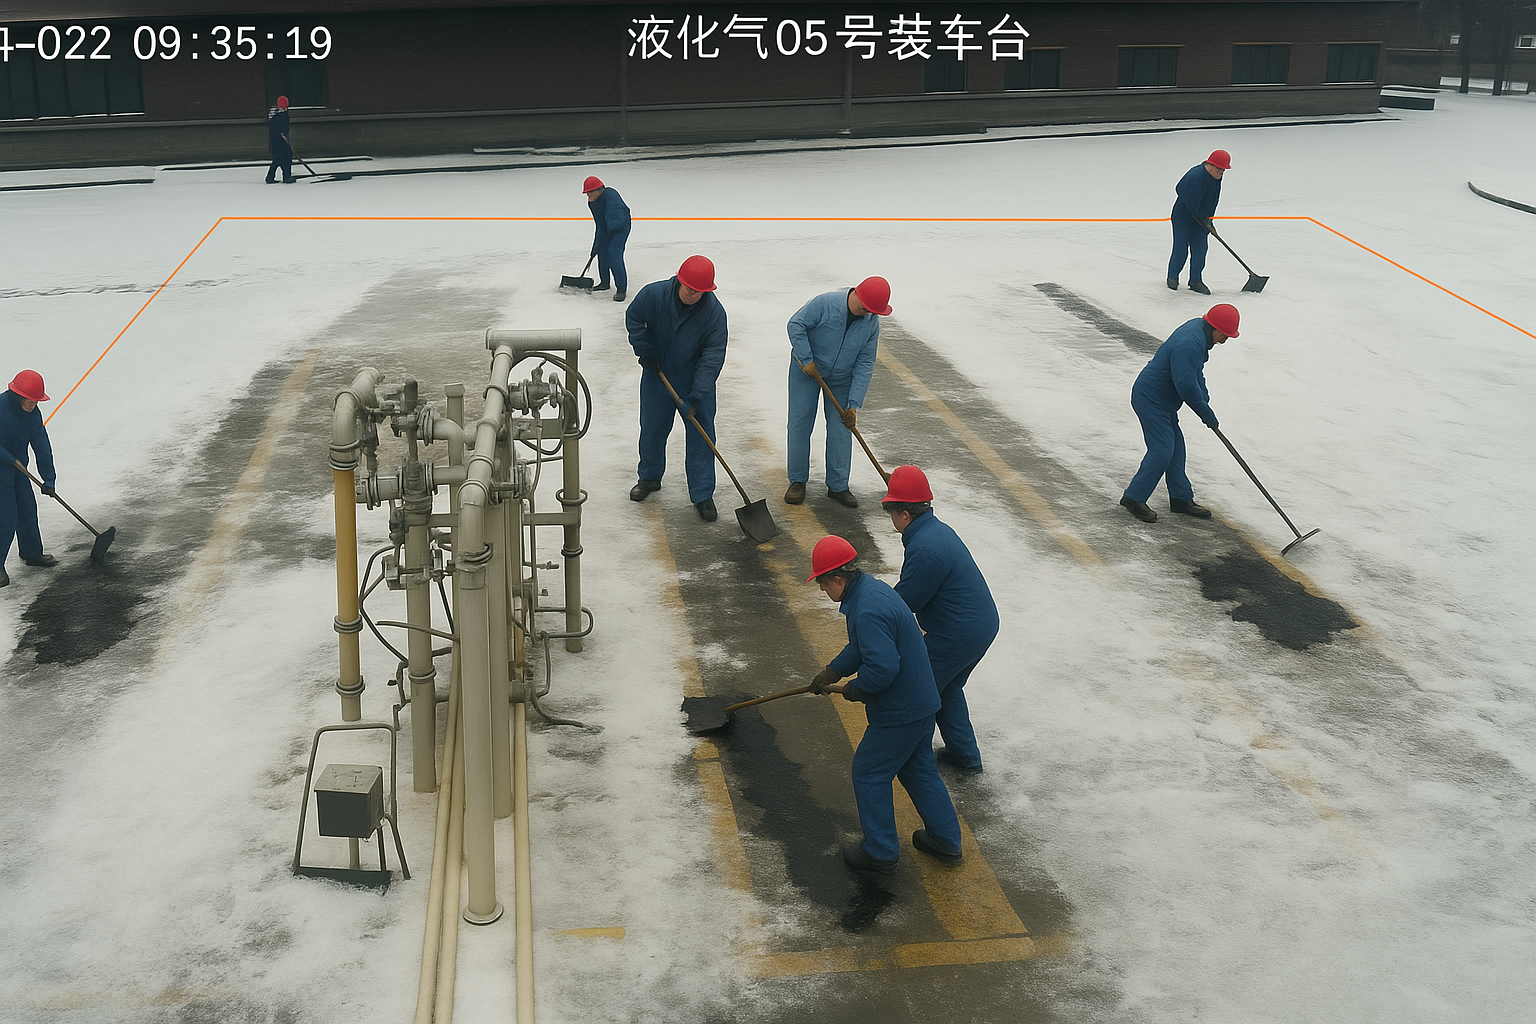safety_cap: (794, 520, 863, 586), (1194, 290, 1250, 344), (672, 243, 722, 303), (0, 360, 59, 409), (854, 267, 902, 318), (1201, 139, 1235, 179), (579, 173, 608, 198), (274, 89, 294, 114)
